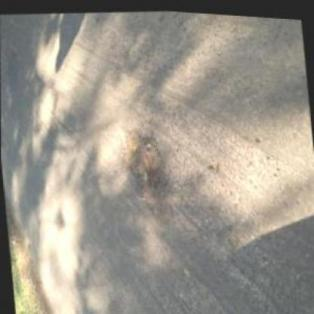Hueco: (116, 122, 178, 227)
